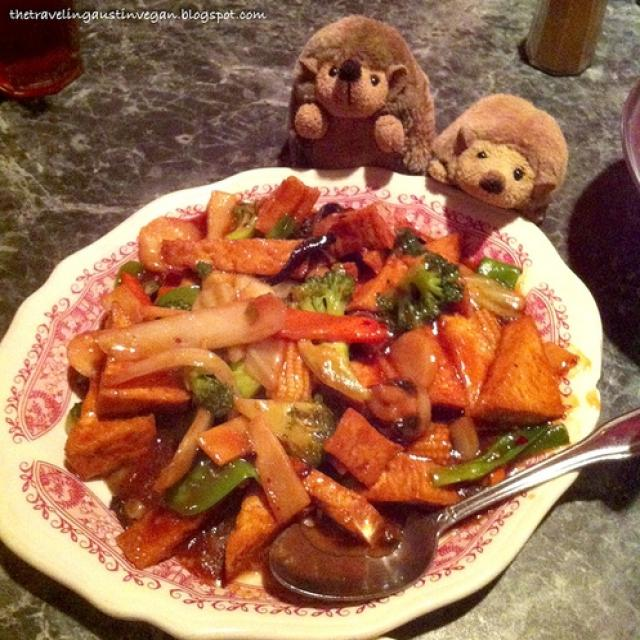豆腐料理: (11, 181, 602, 616)
